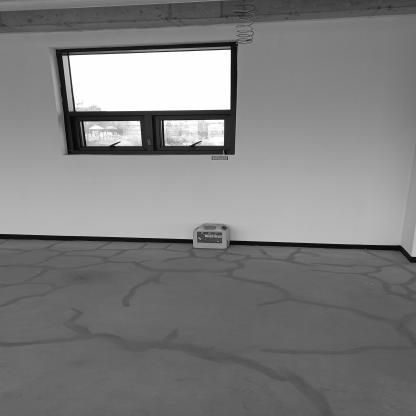DDL: (193, 223, 230, 249)
